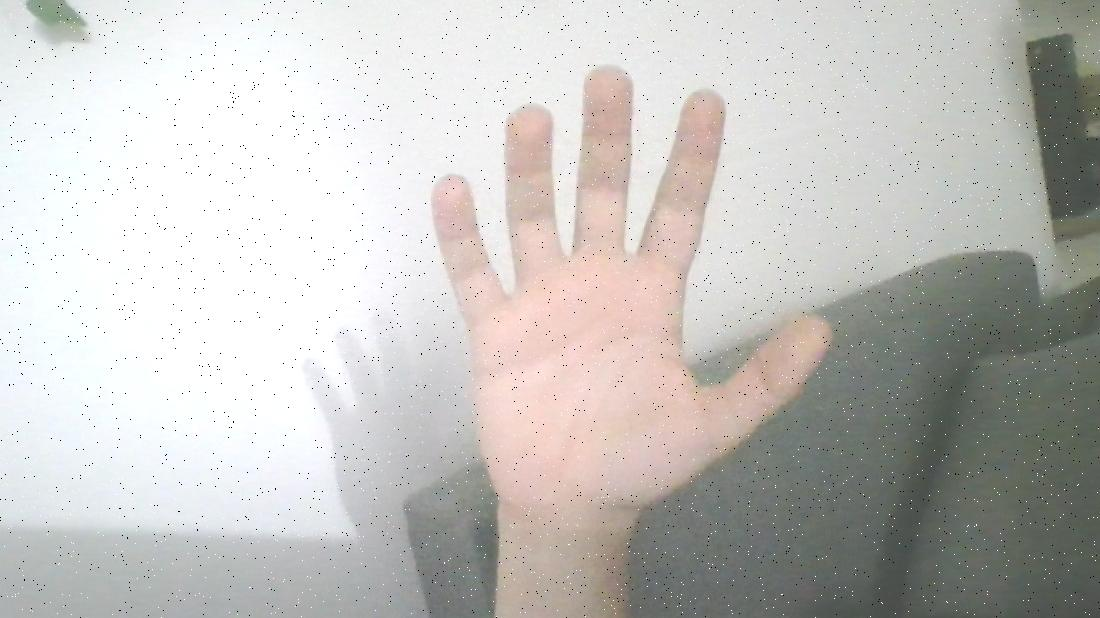hi: (420, 47, 829, 528)
